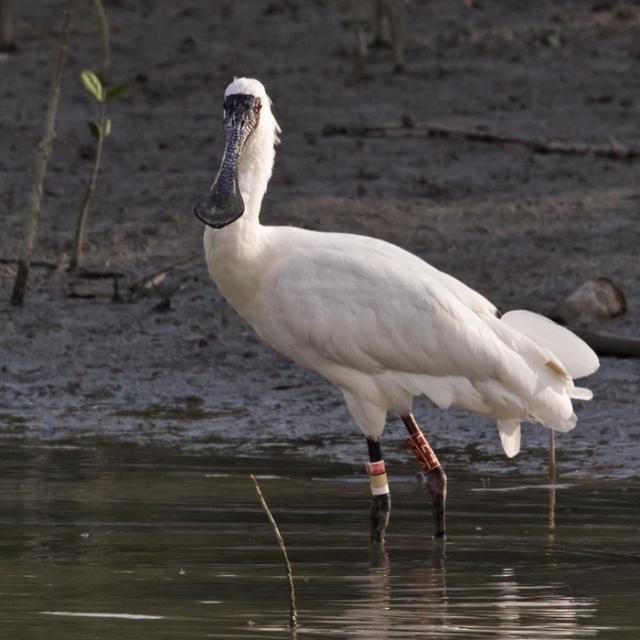Black-faced spoonbill: (195, 78, 597, 541)
